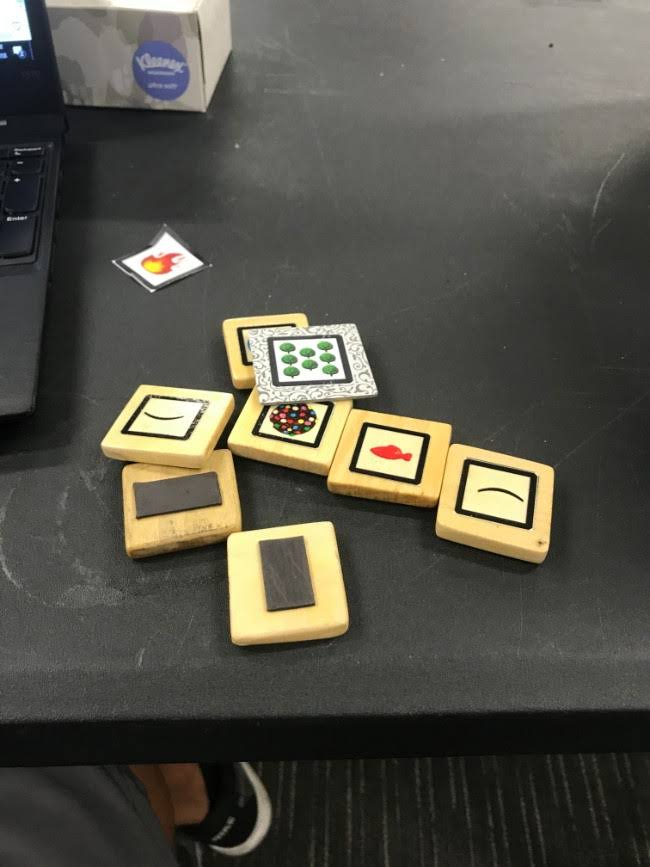cookie: (251, 401, 335, 448)
